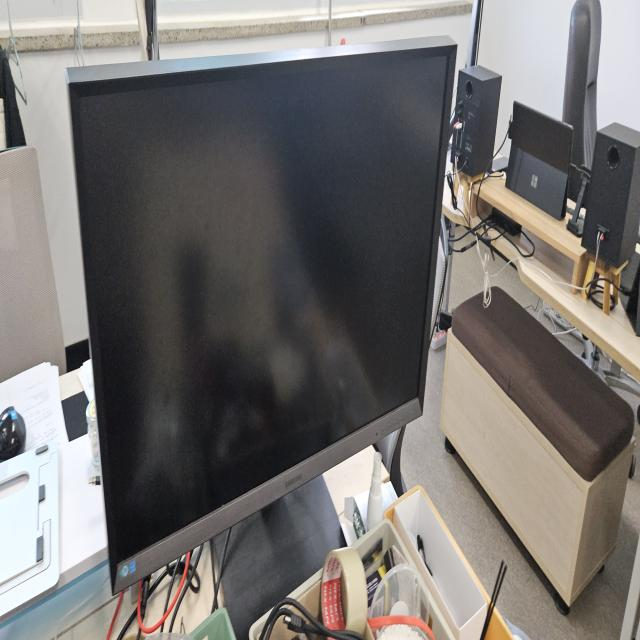Monitor: (62, 33, 458, 595)
Mouse: (0, 402, 28, 462)
